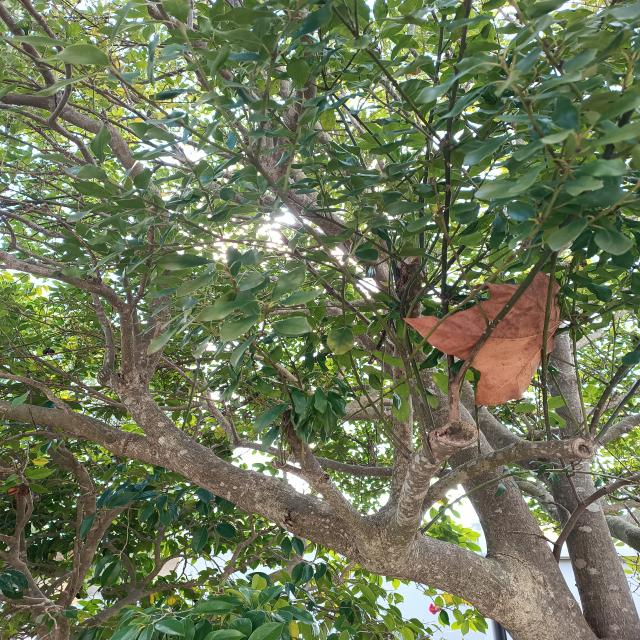Branch: (157, 440, 497, 619), (40, 94, 185, 438), (386, 341, 558, 565), (0, 249, 135, 369), (272, 409, 370, 553), (421, 434, 593, 515), (0, 402, 162, 467), (399, 422, 479, 532)
Twig: (9, 347, 460, 481), (554, 474, 640, 562), (1, 214, 92, 279), (44, 203, 101, 280), (130, 223, 154, 311), (0, 210, 68, 239), (599, 413, 637, 449)
